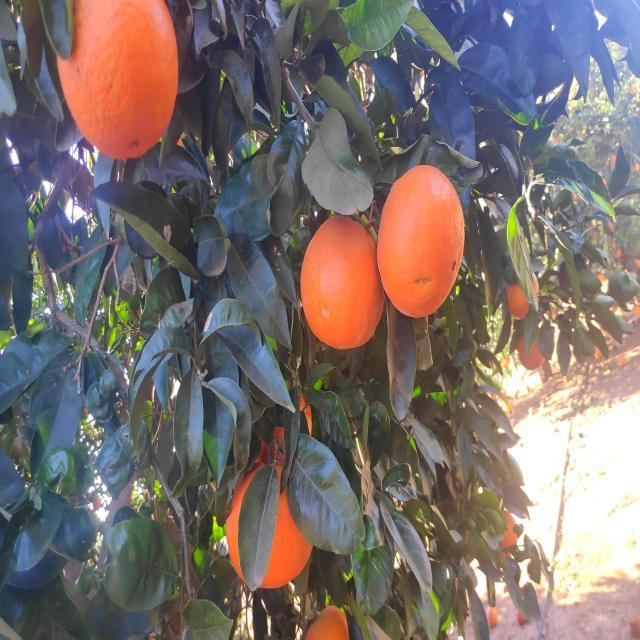Jeruk Sudah Matang: (56, 0, 180, 161), (378, 162, 466, 319), (226, 444, 316, 586), (302, 214, 382, 348), (307, 605, 354, 640), (508, 270, 540, 318), (516, 327, 546, 370)
